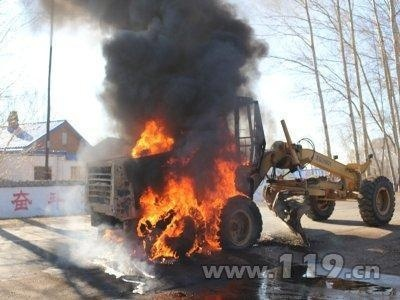fire: (136, 150, 247, 261), (130, 119, 174, 158)
